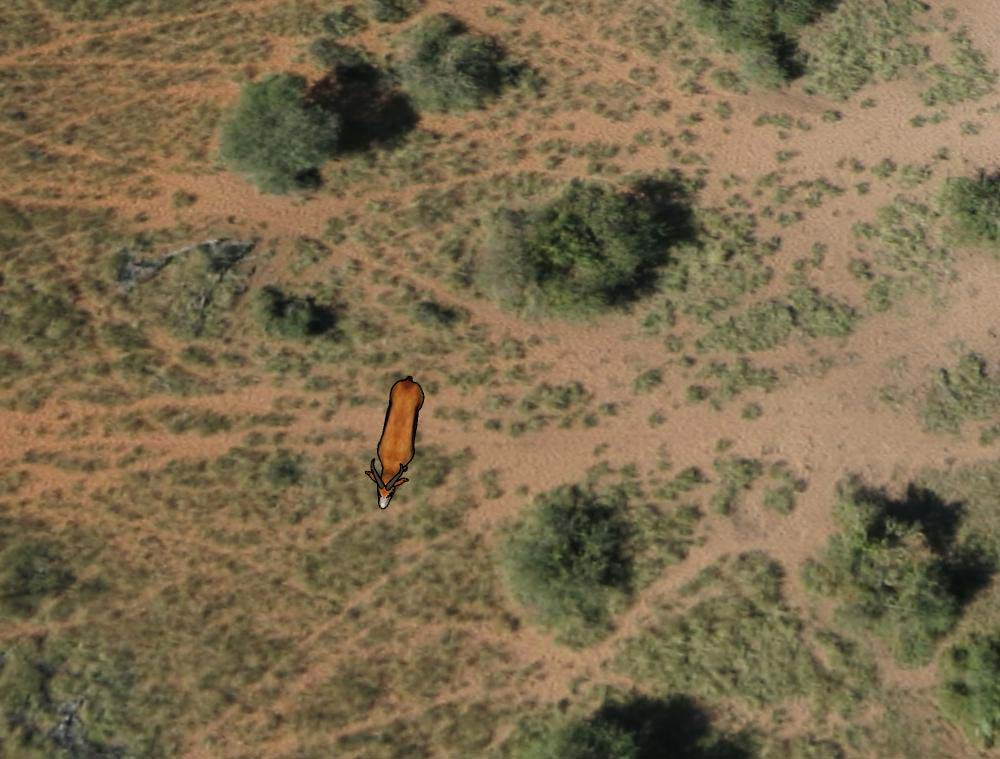springbok: (368, 371, 431, 509)
